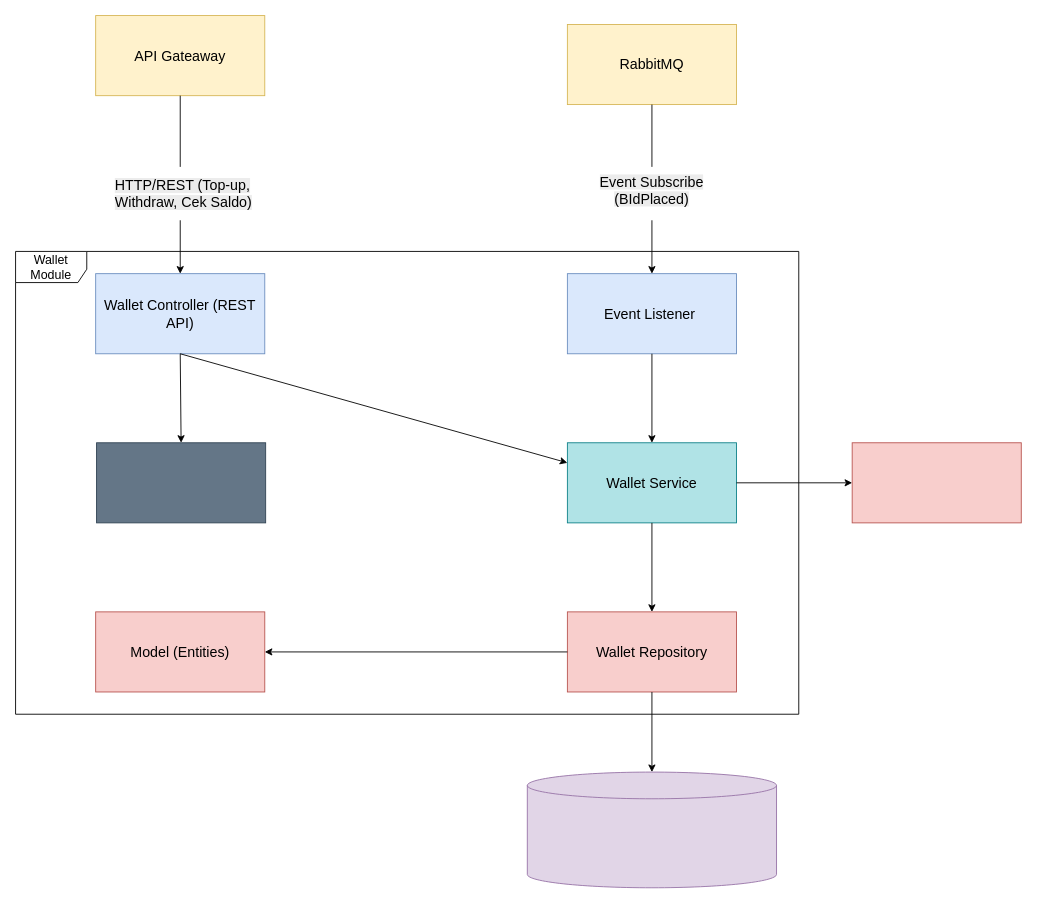
Some shapes in this 1037 by 903 pixel diagram are drawn without their labels. The shapes that lost their labels are listed below. From the top down, each one's box as (x1, y1, x2, y2) in pixels, then its label:
(96, 442, 266, 523): dto (Data Transfer Object)
(851, 442, 1021, 523): Bank
(526, 771, 777, 888): Wallet Database
